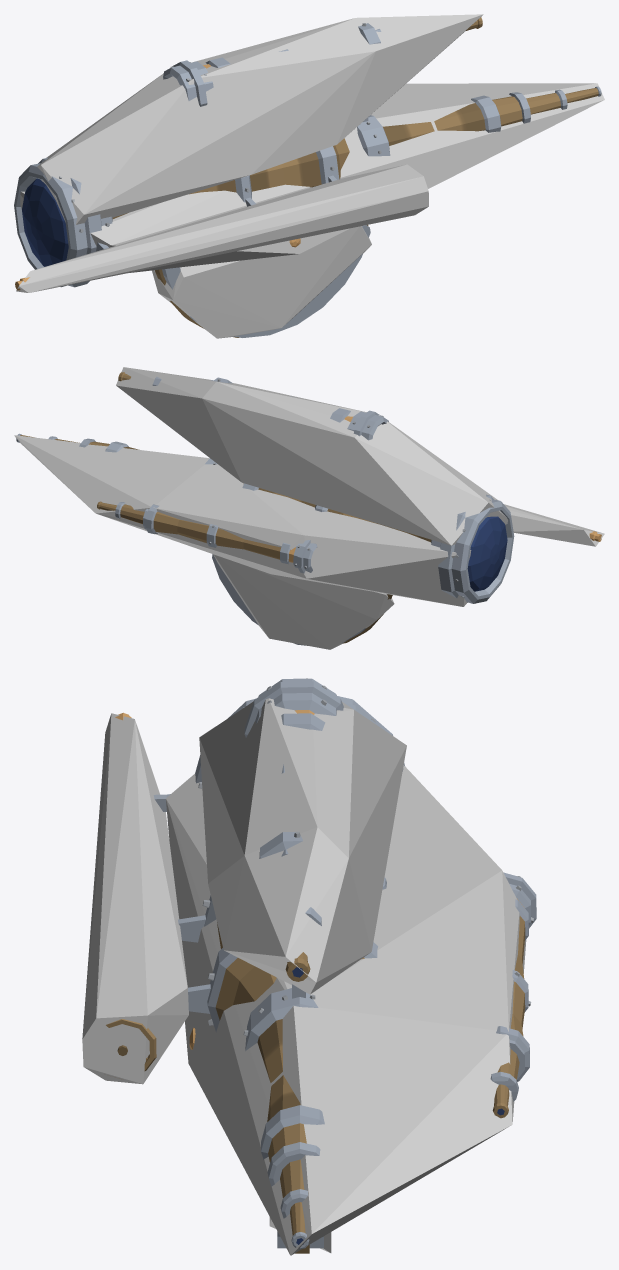
File: SM_Prop_Telescope_01_Scope_02.fbx
The picture shows the model from 3 angles, top to bottom: view 1: azimuth 30°, elevation 25°; view 2: azimuth 150°, elevation 25°; view 3: azimuth 270°, elevation 25°; orthographic projection. The views are drawn at different scales.
Parts seen in each view (by area): view 1: SM_Prop_Telescope_01_Scope_02_ConvexHulls, SM_Prop_Telescope_01_Scope_02; view 2: SM_Prop_Telescope_01_Scope_02_ConvexHulls, SM_Prop_Telescope_01_Scope_02; view 3: SM_Prop_Telescope_01_Scope_02_ConvexHulls, SM_Prop_Telescope_01_Scope_02.
Boxes of the visible parts, bbox=[...] form: SM_Prop_Telescope_01_Scope_02_ConvexHulls: bbox=[16, 14, 604, 338]; SM_Prop_Telescope_01_Scope_02: bbox=[14, 17, 601, 337]; SM_Prop_Telescope_01_Scope_02_ConvexHulls: bbox=[14, 367, 604, 649]; SM_Prop_Telescope_01_Scope_02: bbox=[16, 372, 601, 645]; SM_Prop_Telescope_01_Scope_02_ConvexHulls: bbox=[82, 678, 526, 1255]; SM_Prop_Telescope_01_Scope_02: bbox=[106, 678, 536, 1253].
Bounding box in the file's own units: 659 × 239 × 284.
Materials: 2 (1 with a texture image).
